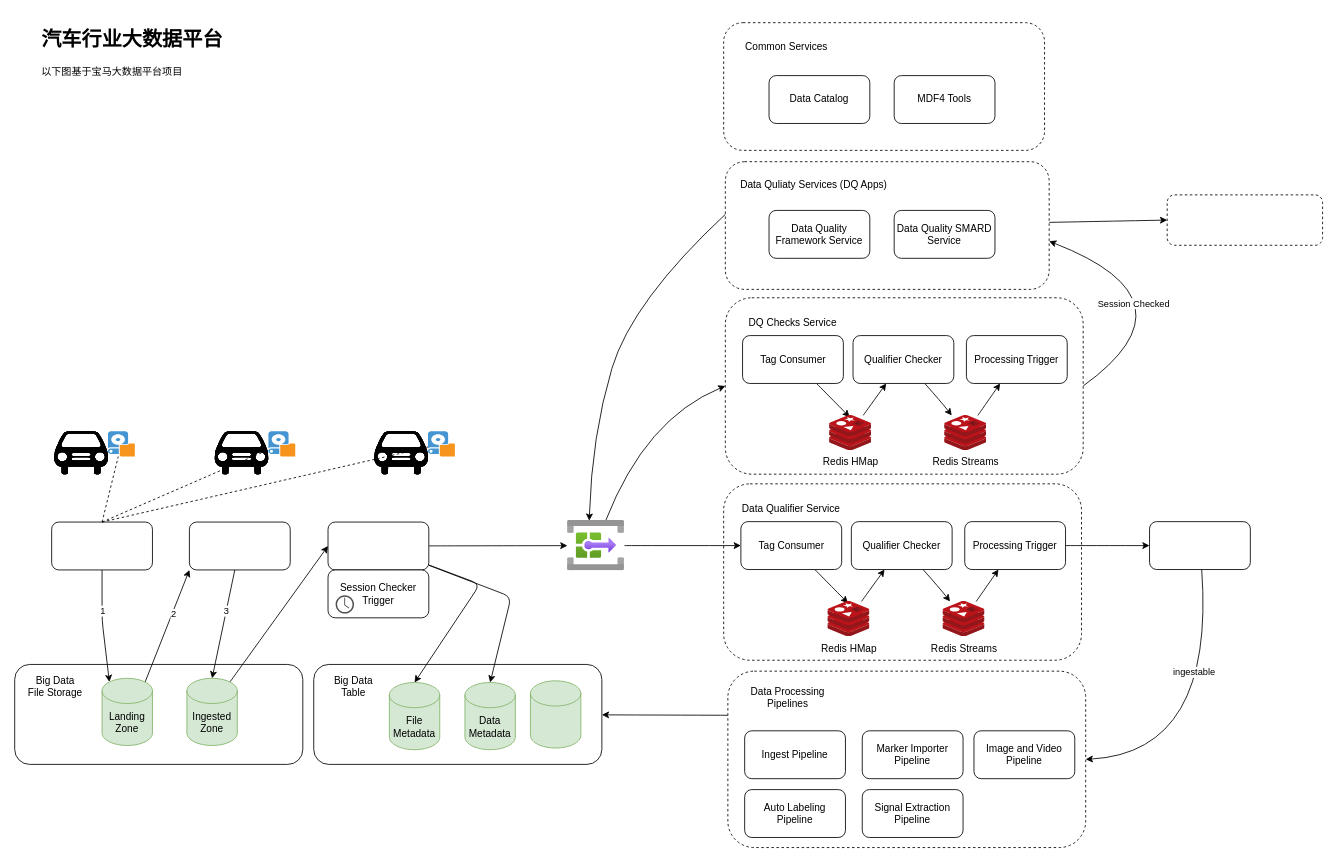
This 1337x863 diagram has some shape labels left out. Each missing label, with the centre of its shape:
Copy Service: pixel 101 545
Data Quality Topics: pixel 595 545
Ingest Service: pixel 239 545
RAAS Reprocessing: pixel 1244 219
Session Checker: pixel 378 545
Session Gate: pixel 1199 545
Session Qualifier State: pixel 555 714
